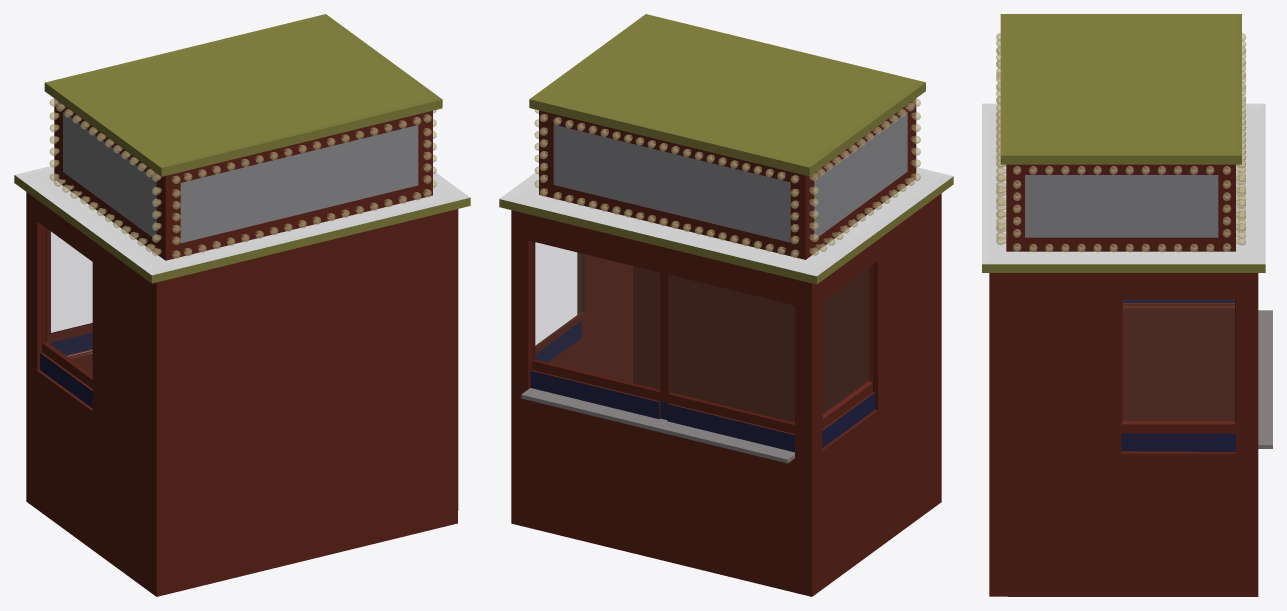
Rendered from TicketBooth_Proxy.fbx.
3 renders of one model, left to right at view 1: azimuth 30°, elevation 25°; view 2: azimuth 150°, elevation 25°; view 3: azimuth 270°, elevation 25°, orthographic. The views are drawn at different scales.
Visible parts, largest first — view 1: TicketBooth; view 2: TicketBooth; view 3: TicketBooth.
Boxes of the visible parts, box(x1,y1,x2,y2) form: TicketBooth: box(14, 14, 470, 596); TicketBooth: box(499, 14, 953, 596); TicketBooth: box(982, 14, 1272, 596).
Size of the model in its own units: 217 by 275 by 166.
